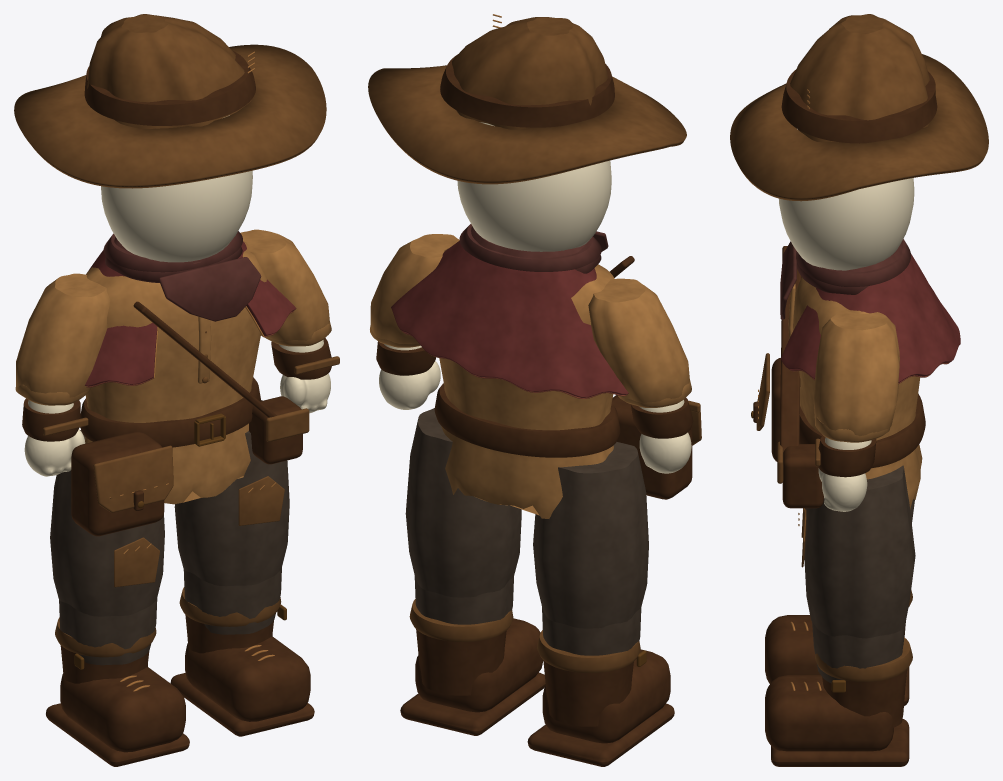
The picture shows the model from 3 angles, left to right: view 1: azimuth 30°, elevation 25°; view 2: azimuth 150°, elevation 25°; view 3: azimuth 270°, elevation 25°; orthographic projection. The views are drawn at different scales.
Parts seen in each view (by area): view 1: B_CrumpledHat, B_Shirt, B_BootShaftR, B_BootShaftL, B_Face, B_PantsUpperR, B_SleeveL, B_PantsUpperL, B_ScarfDrape, B_Satchel, B_UtilityPouch, B_ShortScavengerMantle (+14 smaller); view 2: B_CrumpledHat, B_ShortScavengerMantle, B_PantsUpperL, B_Shirt, B_PantsUpperR, B_BootShaftL, B_BootShaftR, B_Face, B_SleeveL, B_UtilityPouch, B_HatBand, B_SleeveR (+10 smaller); view 3: B_CrumpledHat, B_PantsUpperR, B_BootShaftR, B_SleeveR, B_Face, B_ShortScavengerMantle, B_Shirt, B_HatBand, B_UtilityPouch, B_ScarfDrape, B_BootShaftL, B_Satchel (+7 smaller).
Boxes of the visible parts, bbox=[...] form: B_CrumpledHat: bbox=[14, 14, 326, 188]; B_Shirt: bbox=[85, 241, 266, 504]; B_BootShaftR: bbox=[170, 615, 314, 736]; B_BootShaftL: bbox=[46, 645, 189, 766]; B_Face: bbox=[101, 116, 252, 262]; B_PantsUpperR: bbox=[174, 400, 289, 586]; B_SleeveL: bbox=[16, 273, 110, 397]; B_PantsUpperL: bbox=[50, 430, 164, 616]; B_ScarfDrape: bbox=[103, 231, 261, 321]; B_Satchel: bbox=[71, 301, 276, 536]; B_UtilityPouch: bbox=[80, 377, 302, 464]; B_ShortScavengerMantle: bbox=[85, 241, 296, 386]; B_CrumpledHat: bbox=[368, 17, 686, 184]; B_ShortScavengerMantle: bbox=[391, 241, 628, 397]; B_PantsUpperL: bbox=[533, 442, 648, 628]; B_Shirt: bbox=[439, 248, 614, 518]; B_PantsUpperR: bbox=[405, 408, 521, 597]; B_BootShaftL: bbox=[527, 649, 674, 766]; B_BootShaftR: bbox=[400, 618, 545, 735]; B_Face: bbox=[457, 122, 611, 251]; B_SleeveL: bbox=[588, 278, 689, 402]; B_UtilityPouch: bbox=[434, 383, 620, 457]; B_HatBand: bbox=[440, 54, 614, 127]; B_SleeveR: bbox=[370, 234, 459, 343]; B_CrumpledHat: bbox=[730, 14, 988, 201]; B_PantsUpperR: bbox=[804, 465, 915, 638]; B_BootShaftR: bbox=[765, 670, 909, 766]; B_SleeveR: bbox=[813, 311, 899, 436]; B_Face: bbox=[779, 178, 914, 270]; B_ShortScavengerMantle: bbox=[780, 254, 960, 382]; B_Shirt: bbox=[788, 277, 922, 509]; B_HatBand: bbox=[781, 70, 937, 143]; B_UtilityPouch: bbox=[782, 394, 925, 508]; B_ScarfDrape: bbox=[780, 239, 910, 319]; B_BootShaftL: bbox=[765, 615, 909, 705]; B_Satchel: bbox=[753, 246, 801, 461].
Bounding box in the file's own units: 0.9315 × 2.02 × 0.692.
10 materials, 10 textured.
